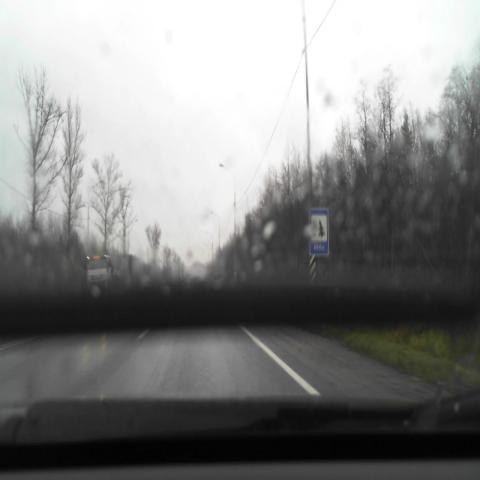7_11: (310, 207, 328, 256)
